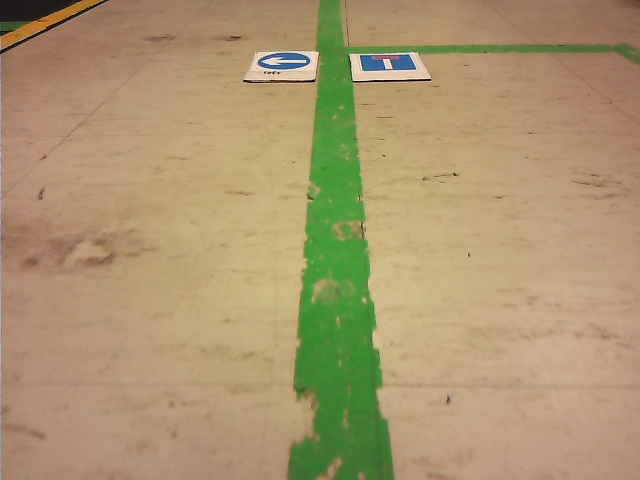DEAD END: (362, 54, 416, 70)
TURN LEFT: (259, 52, 310, 69)
